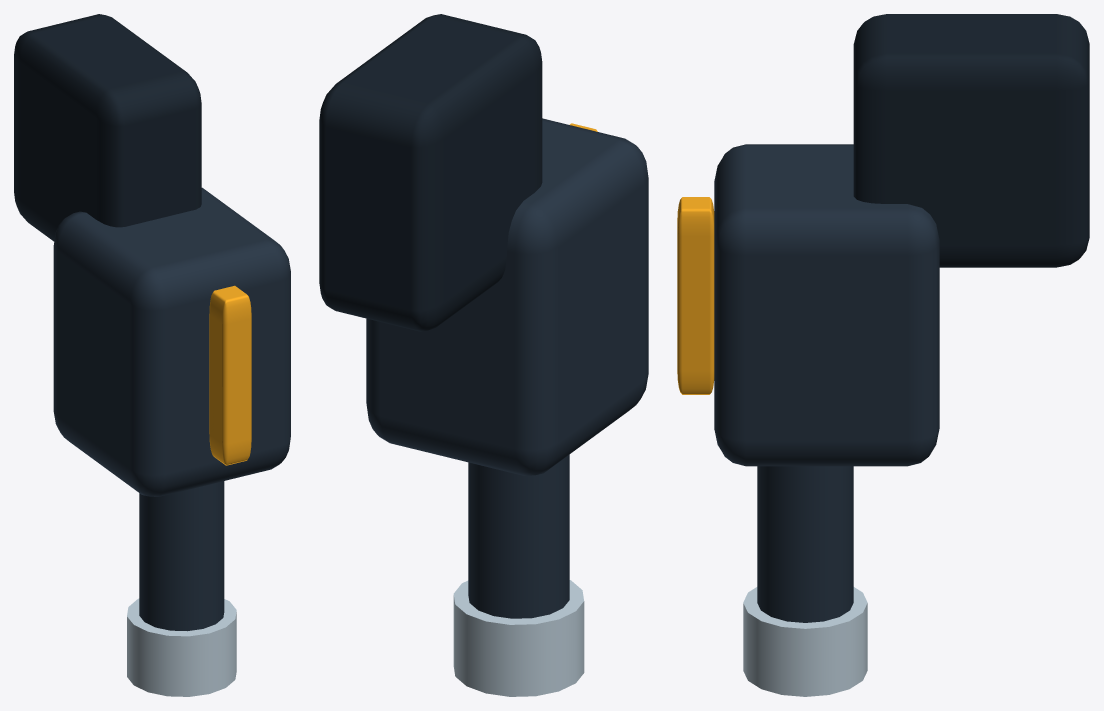
File: pistol-0.glb
3 views of the same model, side by side, from view 1: azimuth 30°, elevation 25°; view 2: azimuth 150°, elevation 25°; view 3: azimuth 270°, elevation 25° (orthographic). The views are drawn at different scales.
Size of the model in its own units: 0.19 by 0.655 by 0.3845.
